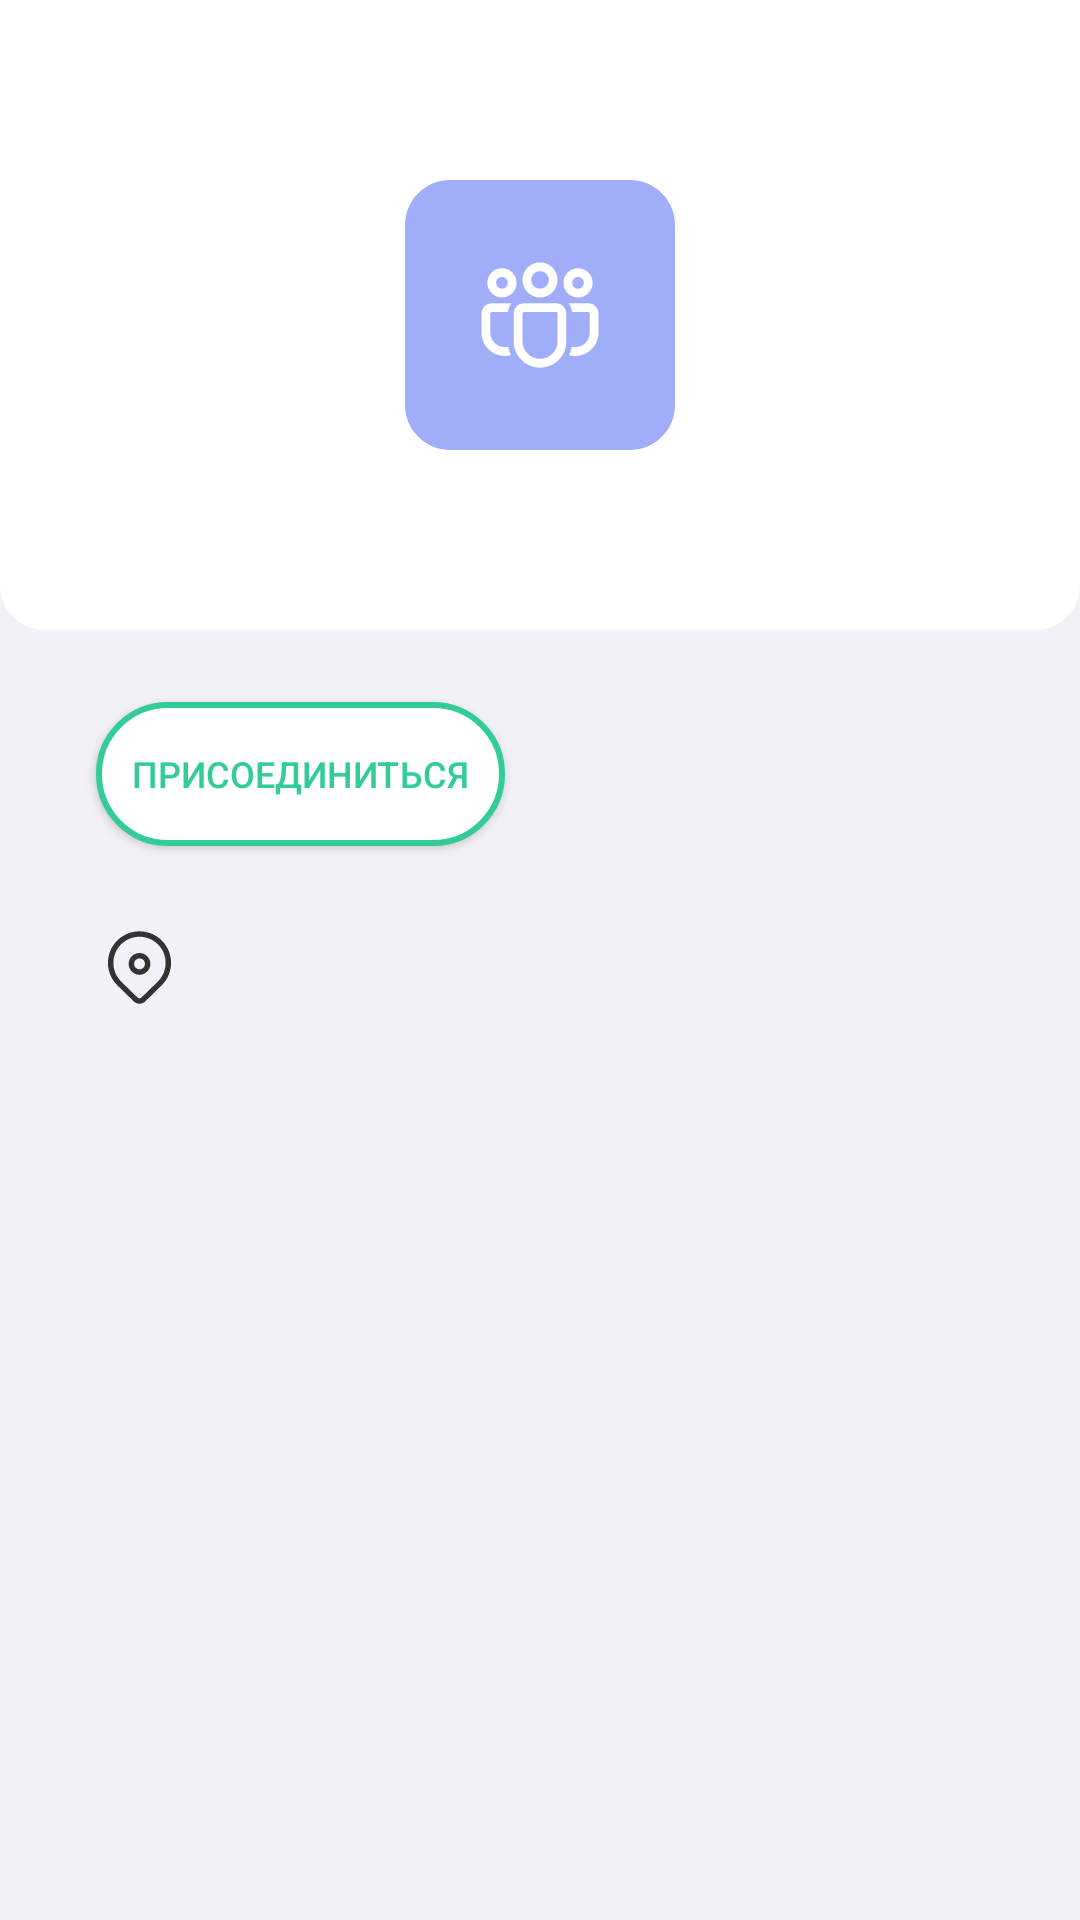

Screen size 1080 × 1920. Icon name, then its box in pixels as Rect(x1, y1, x2, y2):
geo: Rect(108, 931, 171, 1004)
